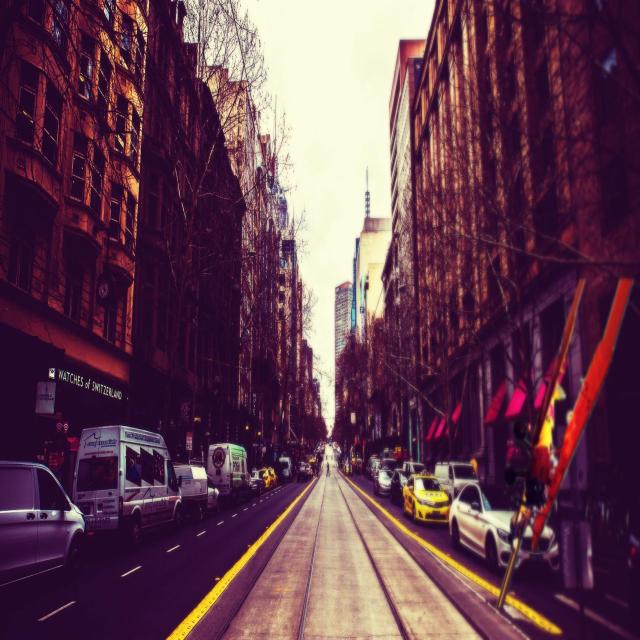airplane: (495, 272, 632, 611)
